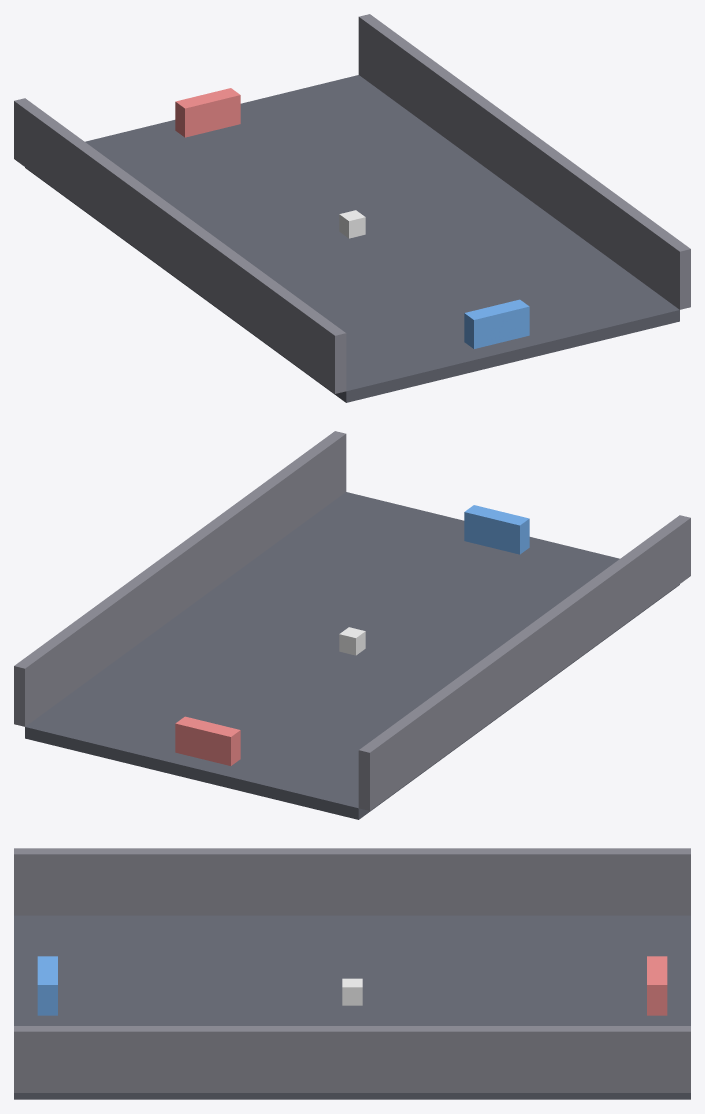
Rendered from game.glb.
3 views of the same model, one above another, from view 1: azimuth 30°, elevation 25°; view 2: azimuth 150°, elevation 25°; view 3: azimuth 270°, elevation 25° (orthographic). The views are drawn at different scales.
Visible parts, largest first — view 1: Court, Wall 1, Wall 2, AIPaddle, PlayerPaddle, Ball; view 2: Court, Wall 1, Wall 2, PlayerPaddle, AIPaddle, Ball; view 3: Court, Wall 1, Wall 2, PlayerPaddle, AIPaddle, Ball.
Boxes of the visible parts, x1,y1,x2,y2 form: Court: [25, 75, 679, 402]; Wall 1: [14, 98, 346, 393]; Wall 2: [358, 14, 690, 309]; AIPaddle: [175, 88, 240, 137]; PlayerPaddle: [464, 299, 529, 348]; Ball: [339, 210, 365, 238]; Court: [25, 492, 679, 819]; Wall 1: [358, 515, 690, 810]; Wall 2: [14, 431, 346, 726]; PlayerPaddle: [464, 505, 529, 554]; AIPaddle: [175, 716, 240, 765]; Ball: [339, 627, 365, 655]; Court: [14, 915, 690, 1099]; Wall 1: [14, 848, 690, 915]; Wall 2: [14, 1026, 690, 1092]; PlayerPaddle: [37, 956, 57, 1015]; AIPaddle: [647, 956, 667, 1015]; Ball: [342, 978, 362, 1005].
Bounding box in the file's own units: 6.4 × 1.2 × 10.
